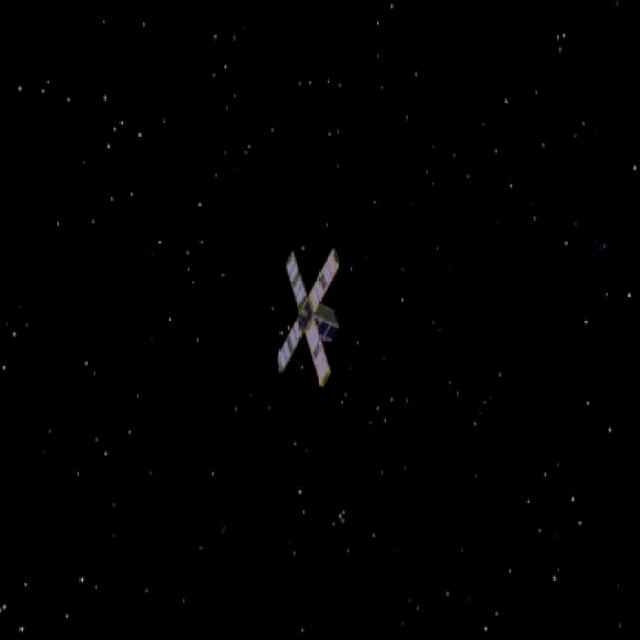medium_debris: (267, 238, 346, 386)
